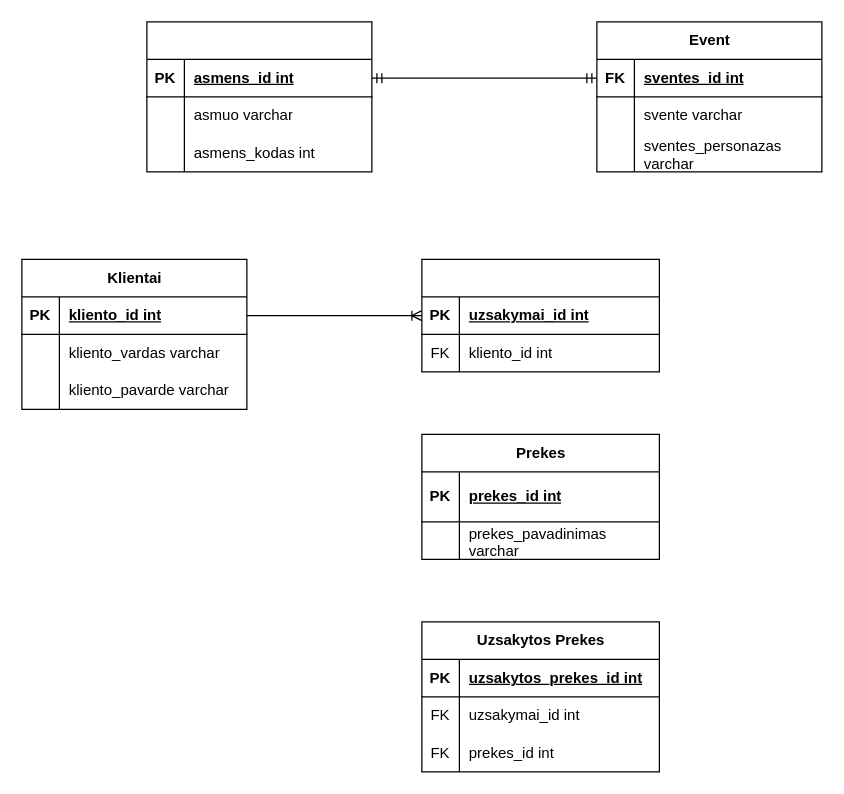
Image size: 844x794. Some labels were removed from this diagram. Each missing label, with the box of its shape:
Parduotuve: (421, 258, 659, 372)
People: (146, 21, 372, 172)
